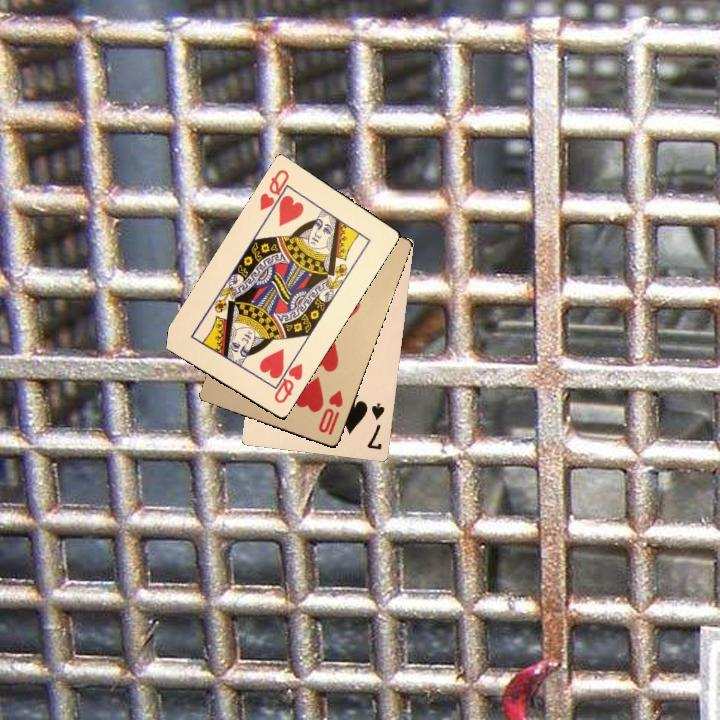10h: (314, 386, 345, 438)
7s: (363, 399, 387, 452)
Qh: (255, 165, 292, 219), (270, 355, 305, 406)
